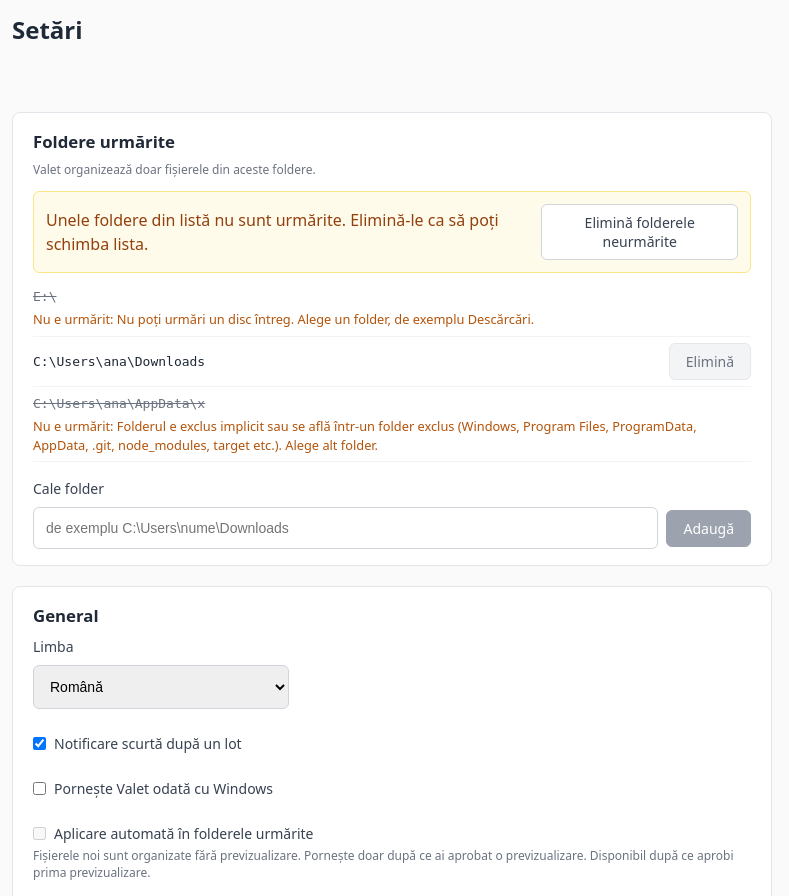
SettingsView › marks invalid entries with the reason and removes them, saving the valid list
This screenshot has width=789, height=896.
Expected: the text "C:\\Users\\ana\\Downloads" is shown, left=33, top=352, right=205, bottom=371
Expected: the text "E:\\" is shown, left=33, top=289, right=56, bottom=304
Type "C:\\Users\\ana\\Desktop" into the field labelled "Cale folder" at (346, 528), box left=33, top=507, right=658, bottom=549
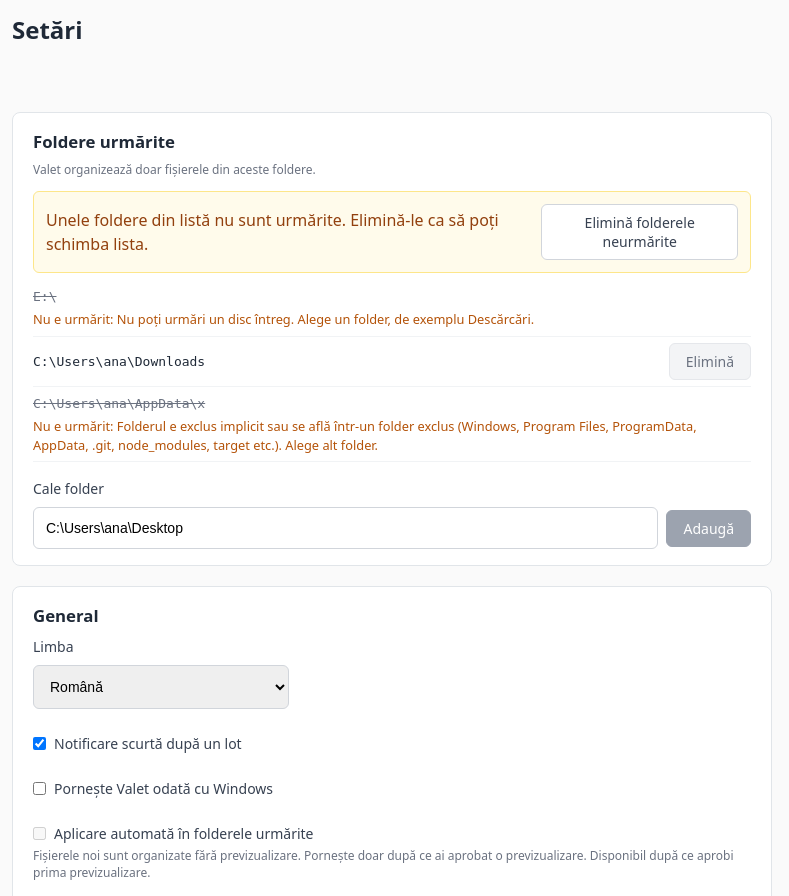
Expected: the button "Adaugă" is disabled, left=666, top=510, right=751, bottom=547
Click the button "Elimină folderele neurmărite" at (640, 232), box left=541, top=204, right=738, bottom=260
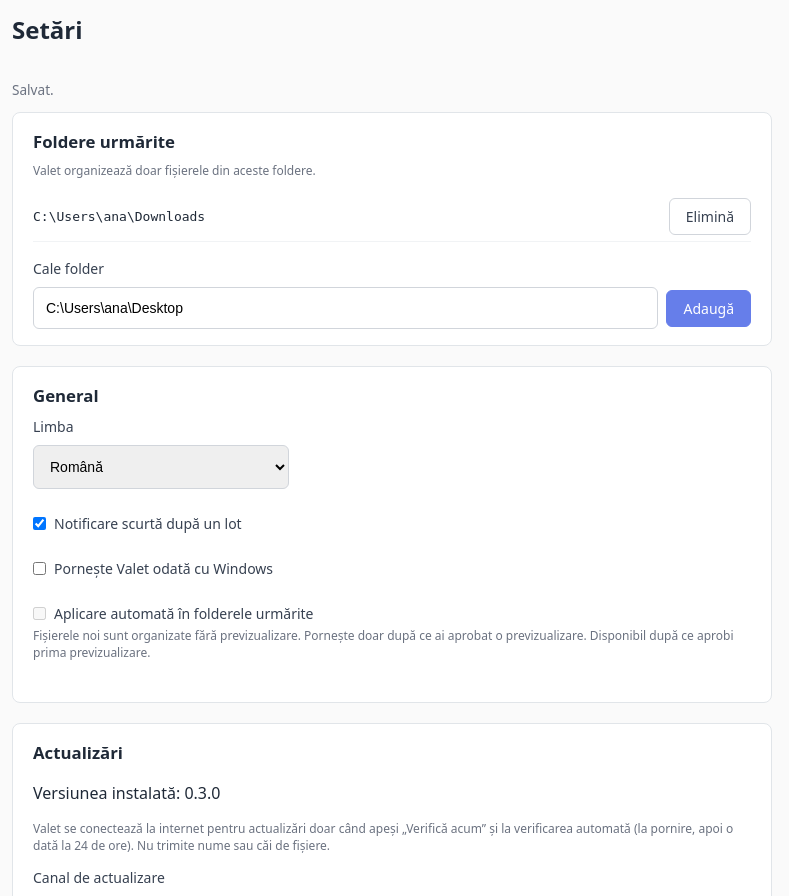
Now the text "Salvat." is shown, box left=12, top=80, right=54, bottom=99
Now the text "E:\\" is gone
Now the text "Nu e urmărit" is gone
